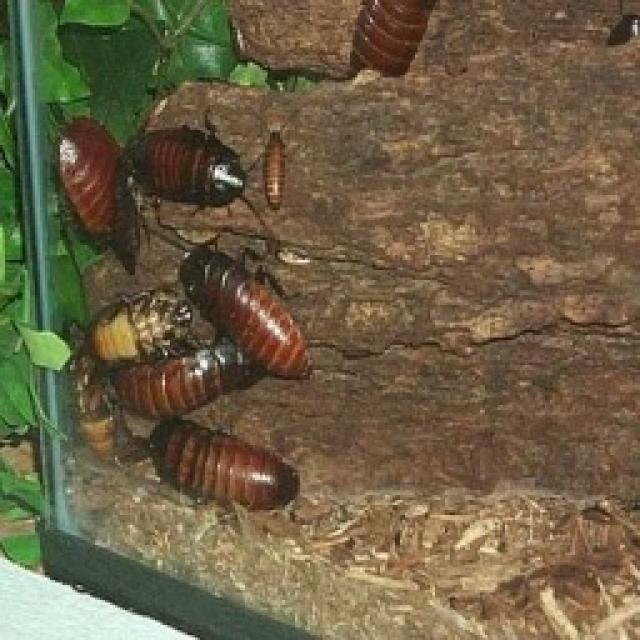cockroach: (173, 231, 330, 409), (139, 418, 313, 530), (57, 72, 136, 304), (115, 328, 292, 426), (133, 119, 265, 222)
